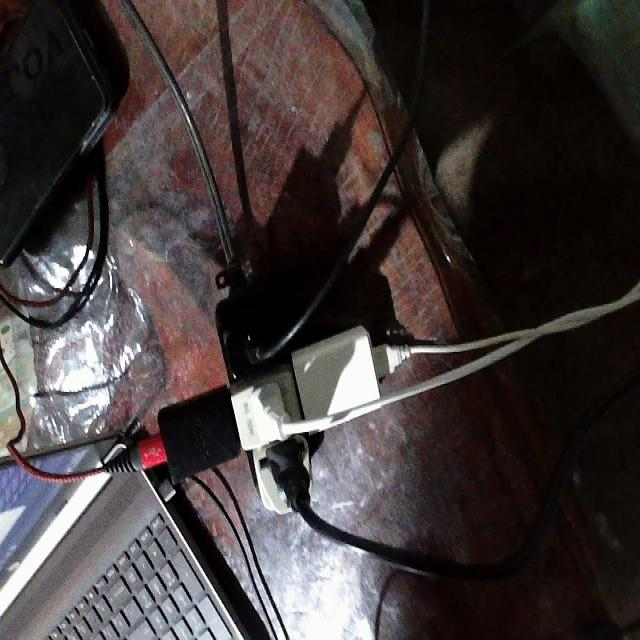-: (145, 286, 383, 522)
